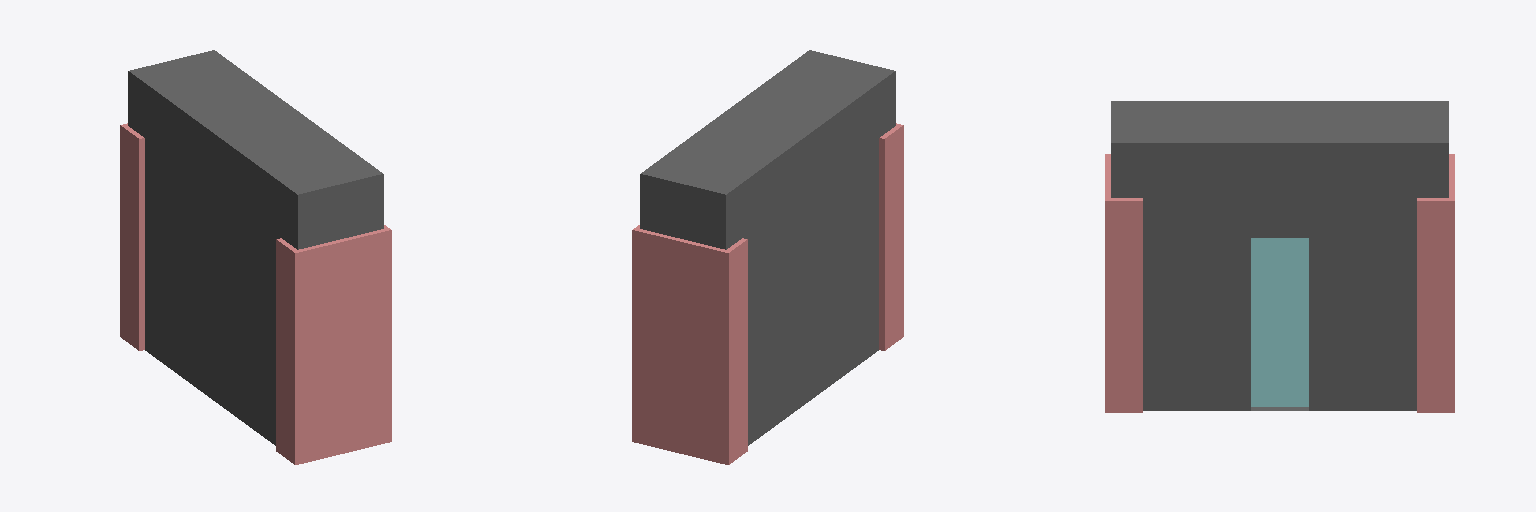
Rendered from house06.obj.
3 views of the same model, side by side, from view 1: azimuth 30°, elevation 25°; view 2: azimuth 150°, elevation 25°; view 3: azimuth 270°, elevation 25° (orthographic).
Parts seen in each view (by area): view 1: Box013, Box021, Box020; view 2: Box013, Box020, Box021; view 3: Box013, ??006, Box020, Box021.
Part boxes in pixels (bbox=[...]): Box013: bbox=[128, 50, 383, 445]; Box021: bbox=[276, 225, 391, 464]; Box020: bbox=[120, 123, 144, 350]; Box013: bbox=[640, 50, 895, 445]; Box020: bbox=[632, 225, 747, 464]; Box021: bbox=[879, 123, 903, 350]; Box013: bbox=[1111, 101, 1448, 410]; ??006: bbox=[1251, 238, 1308, 406]; Box020: bbox=[1417, 154, 1454, 412]; Box021: bbox=[1105, 154, 1142, 412].
Size of the model in its own units: 746 by 1985 by 2355.